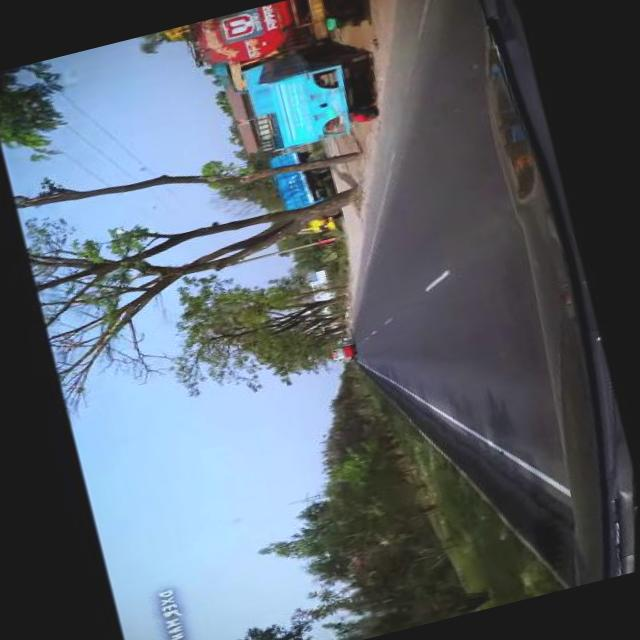bus: (326, 341, 354, 359)
truck: (233, 34, 369, 154), (189, 0, 341, 72), (264, 143, 340, 240)
